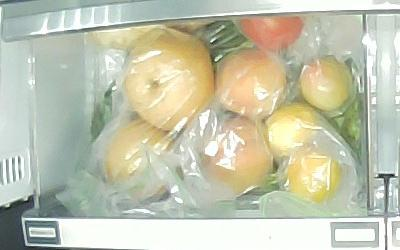peach_vinyl: (211, 46, 287, 120), (207, 117, 273, 191)
pear_vinyl: (120, 27, 215, 133), (105, 121, 174, 197)
tangerine_vinyl: (261, 103, 316, 157), (286, 153, 342, 205)
tomato_vinyl: (299, 55, 352, 112), (235, 13, 304, 50)
